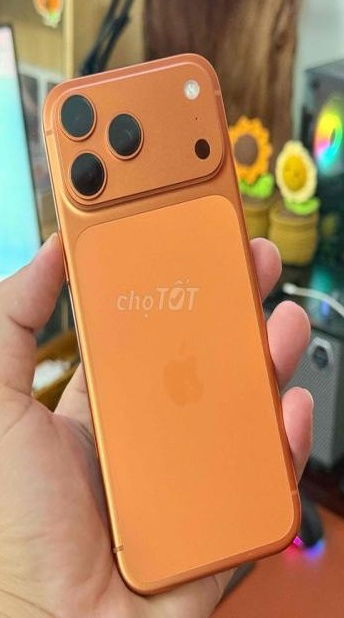scratch: (46, 54, 306, 591)
